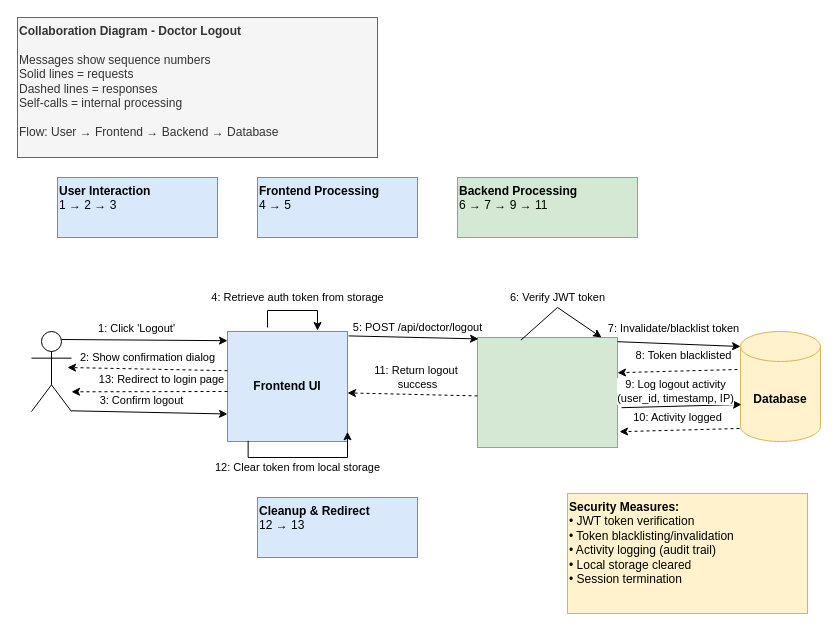
The diagram is 838 pixels wide and 631 high, and some of its shapes have lost their labels. The box of each missing label's shape, as (x1, y1, x2, y2) in pixels:
Backend API: (476, 336, 618, 448)
Doctor: (30, 330, 72, 412)
